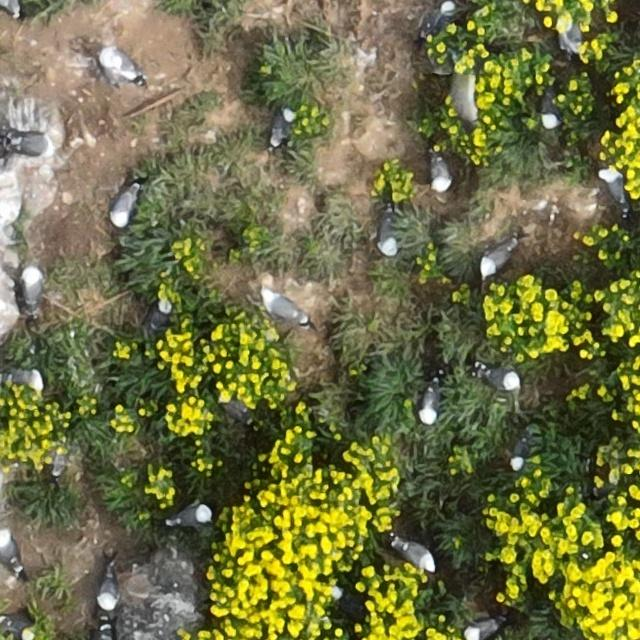umineko: (8, 130, 59, 157), (394, 541, 436, 569), (264, 295, 304, 321), (483, 243, 515, 274), (603, 171, 627, 207), (482, 368, 520, 390), (112, 188, 135, 224), (108, 51, 138, 78), (146, 300, 171, 332), (172, 505, 210, 525), (22, 271, 42, 308), (332, 590, 360, 616), (221, 397, 250, 422), (270, 109, 291, 143), (0, 534, 21, 567), (420, 387, 438, 425), (562, 21, 584, 52), (379, 213, 396, 252), (466, 618, 499, 638), (432, 157, 452, 190), (98, 573, 116, 609), (542, 92, 560, 127), (7, 368, 42, 386), (512, 436, 528, 468), (1, 0, 21, 16)
